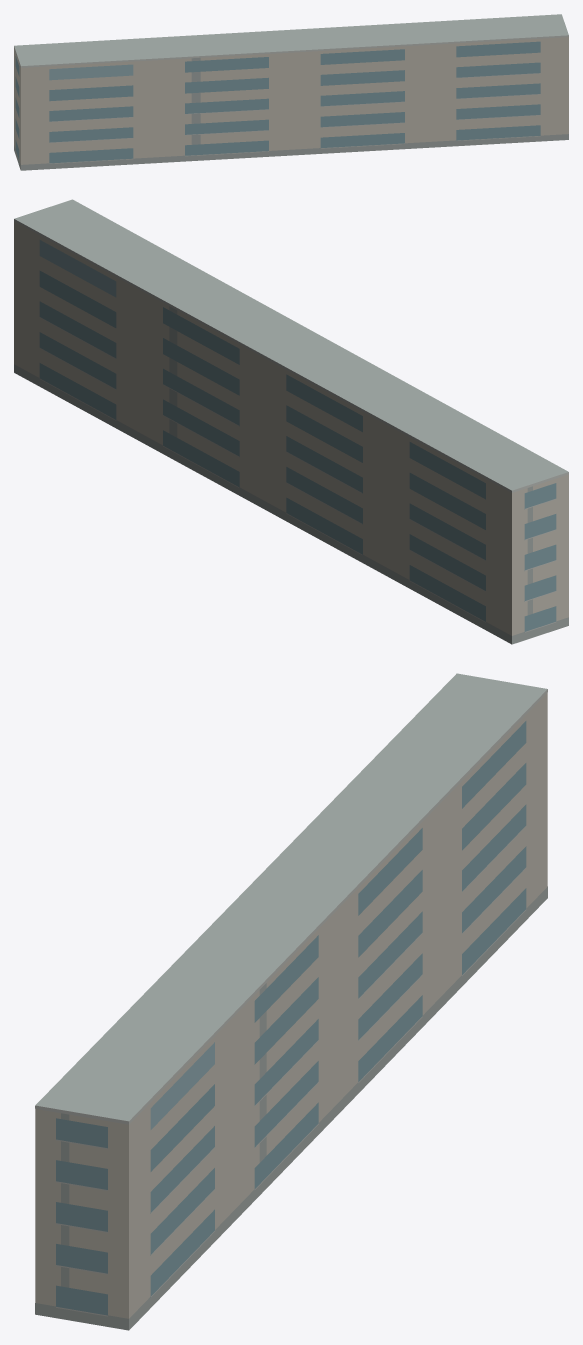
The model's file is survey-upis-32783800.glb.
The picture shows the model from 3 angles, top to bottom: view 1: azimuth 30°, elevation 25°; view 2: azimuth 150°, elevation 25°; view 3: azimuth 270°, elevation 25°; orthographic projection. The views are drawn at different scales.
Parts seen in each view (by area): view 1: survey-upis-32783800.tmp; view 2: survey-upis-32783800.tmp; view 3: survey-upis-32783800.tmp.
Part boxes in pixels (x1,y1,x2,y2): survey-upis-32783800.tmp: (14, 14, 568, 170); survey-upis-32783800.tmp: (14, 199, 568, 644); survey-upis-32783800.tmp: (35, 673, 547, 1330).
Bounding box in the file's own units: 70.06 × 15.25 × 33.89.
